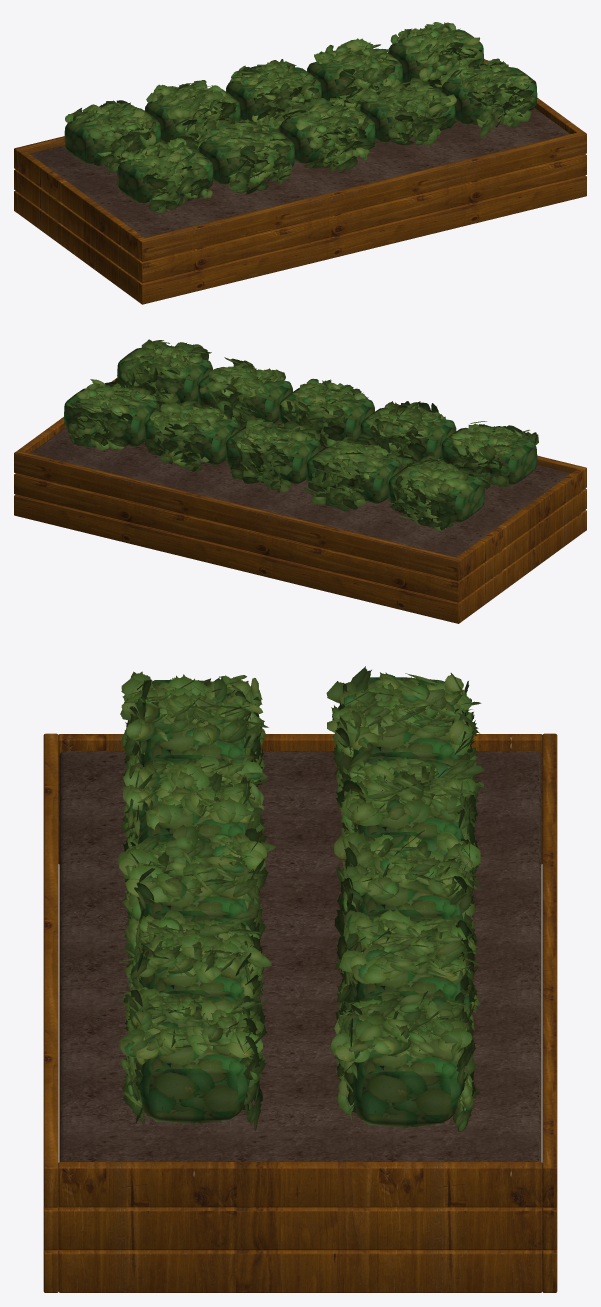
Rendered from huerto_240.glb.
3 views of the same model, one above another, from view 1: azimuth 30°, elevation 25°; view 2: azimuth 150°, elevation 25°; view 3: azimuth 270°, elevation 25° (orthographic). The views are drawn at different scales.
Parts seen in each view (by area): view 1: huerto_240; view 2: huerto_240; view 3: huerto_240.
Part boxes in pixels (bbox=[...]): huerto_240: bbox=[14, 22, 586, 304]; huerto_240: bbox=[14, 339, 586, 623]; huerto_240: bbox=[43, 666, 557, 1292].
Size of the model in its own units: 2.4 by 0.6001 by 1.2.
Materials: 4 (4 with a texture image).
